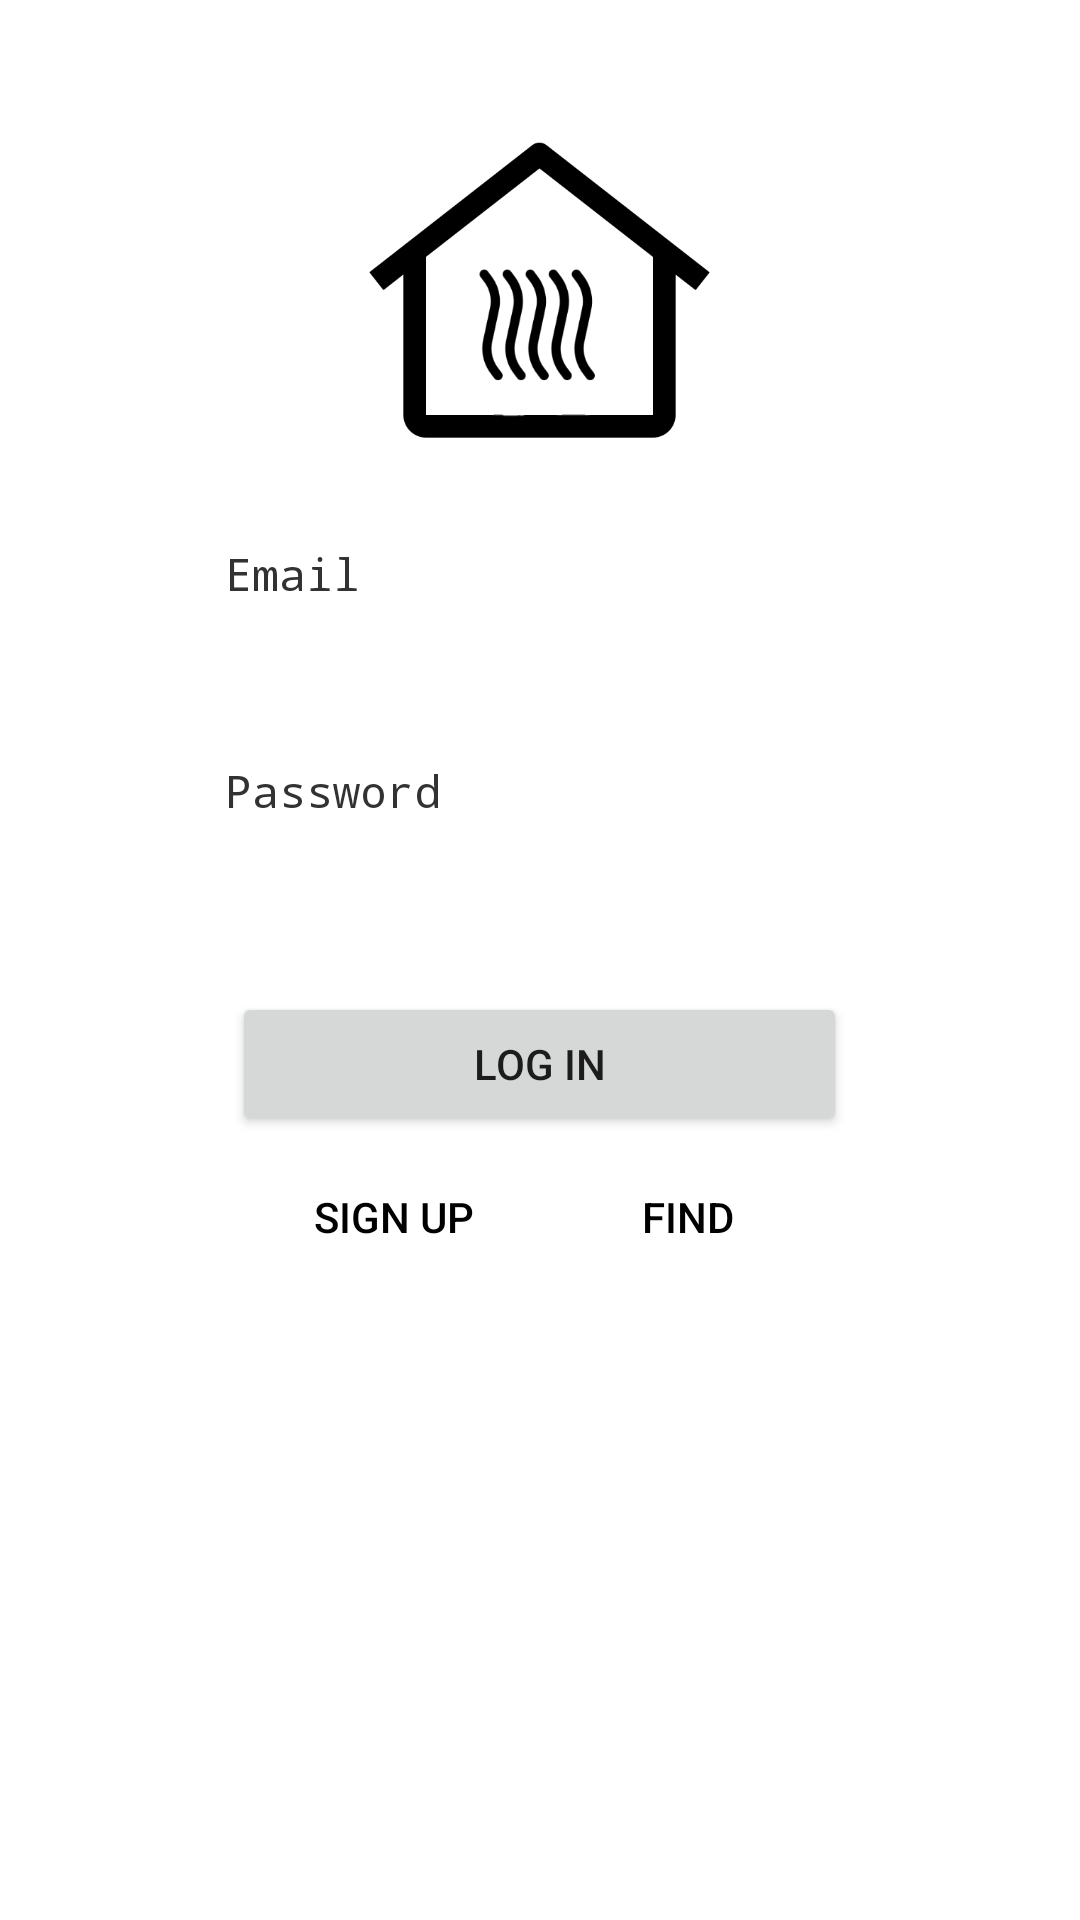

Icons on this 1080px x 1920px Android screen, each with the point to tap as (x=x, y=y):
home cutout: (x=539, y=290)
